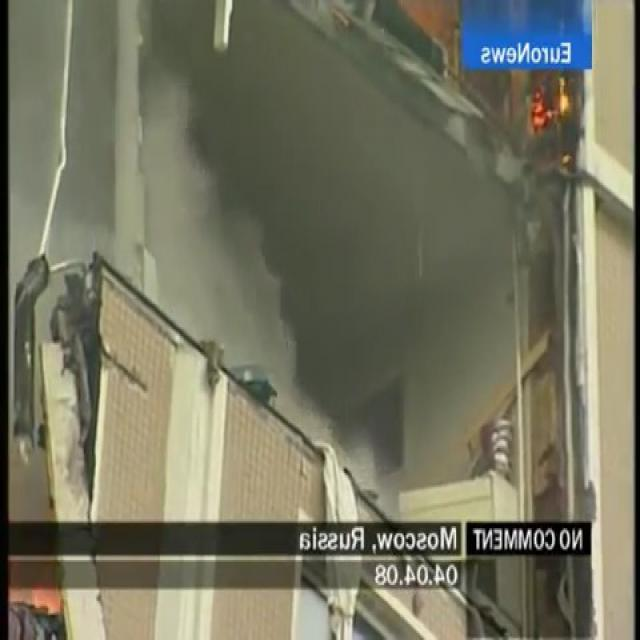fire: (528, 70, 577, 140)
